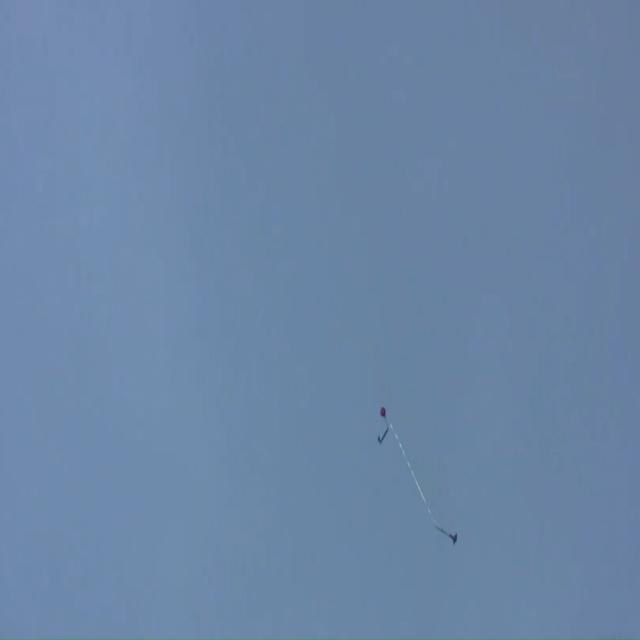Rocket: (434, 522, 458, 548)
